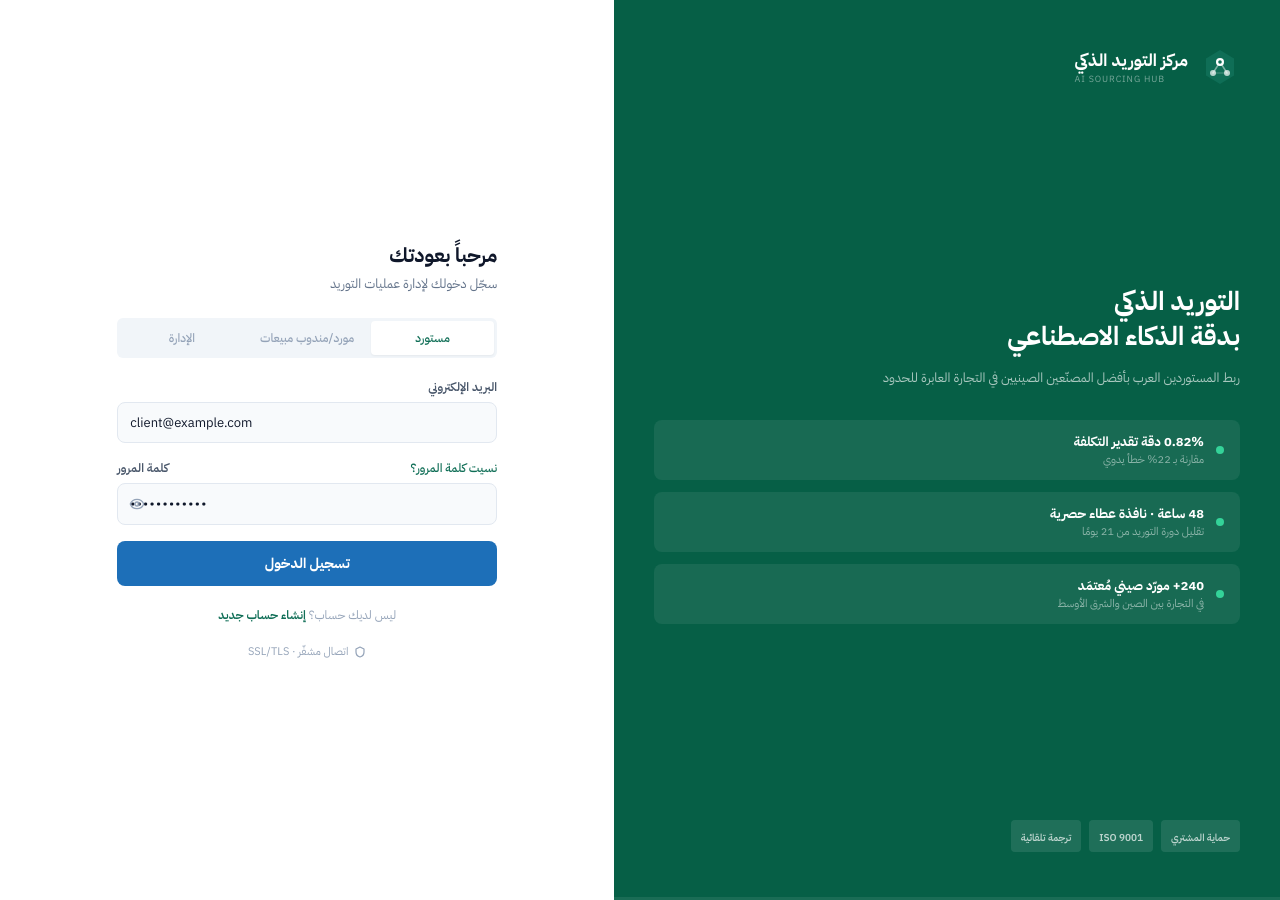
Test: LoginPage — role tabs (client / agent / admin) › shows a loading state while the login request is in flight
Click the button "تسجيل الدخول" at (307, 563), box [117, 540, 497, 586]
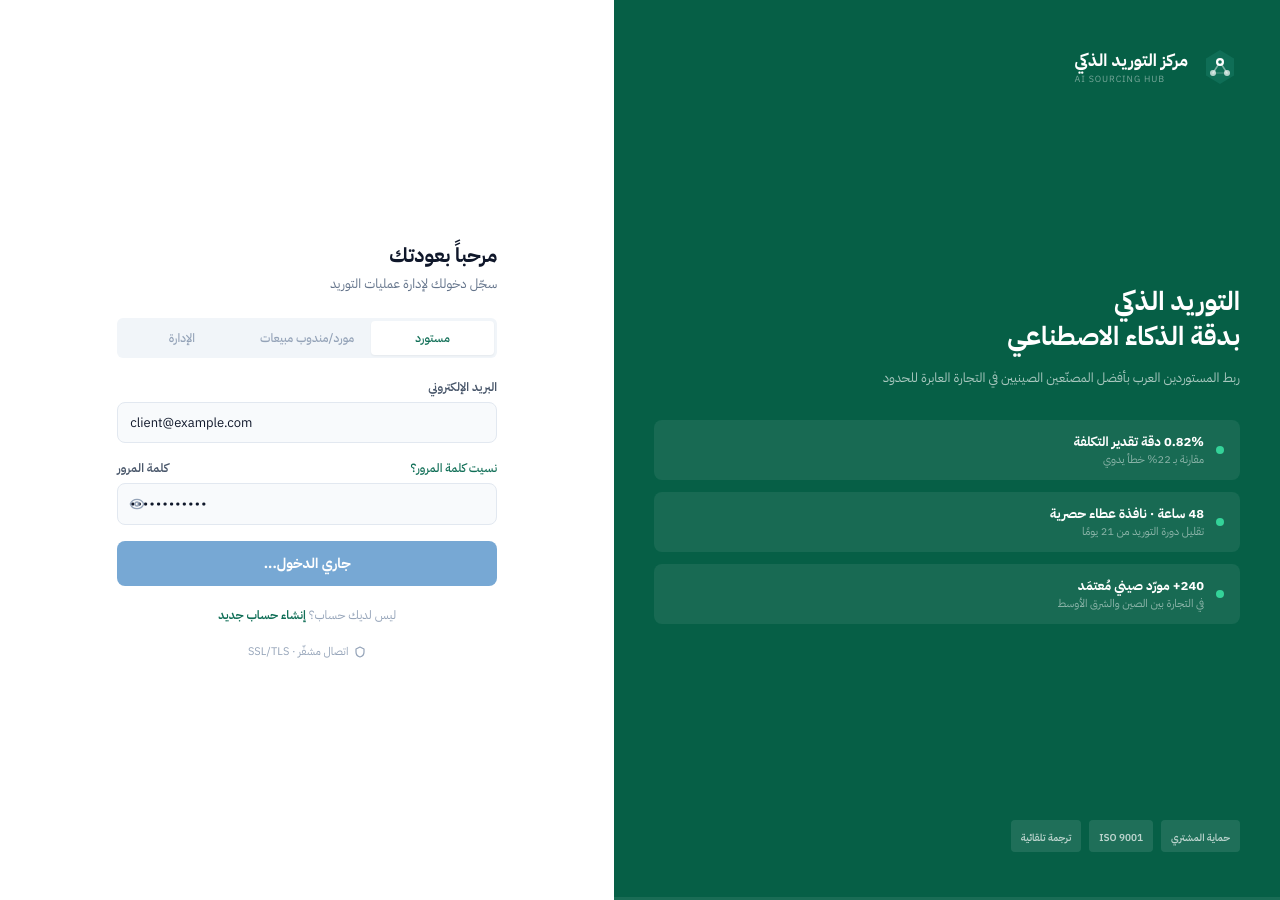
Expected: the button "جاري الدخول..." is disabled, [117, 540, 497, 586]
